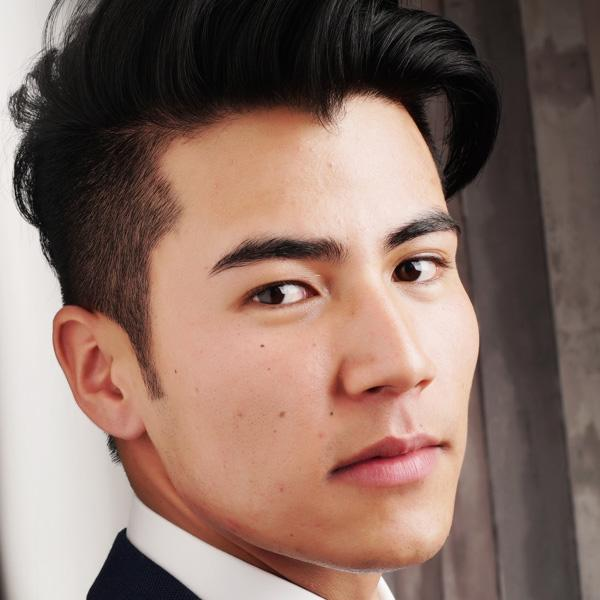Eyes: (235, 264, 333, 321), (382, 241, 462, 297)
